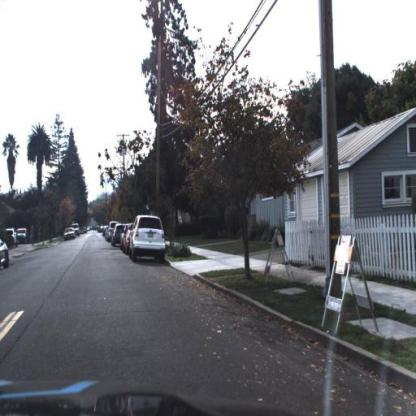car: (126, 212, 169, 267), (2, 239, 10, 275), (71, 221, 81, 237)
